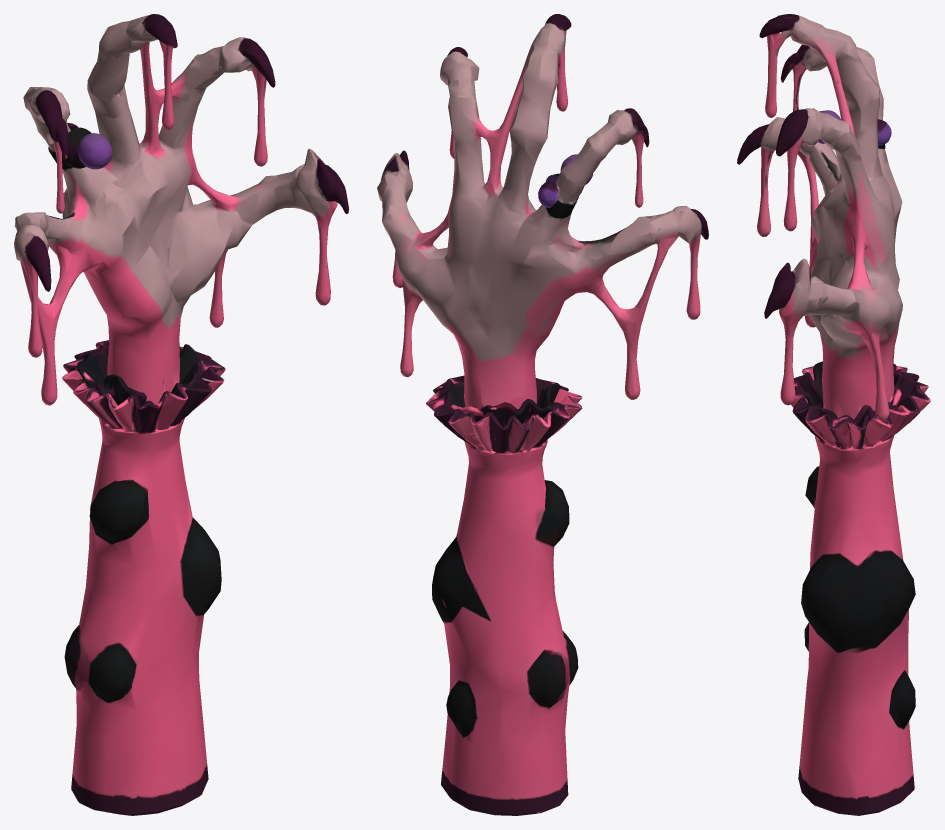
Rendered from reina-brazo.glb.
3 views of the same model, side by side, from view 1: azimuth 30°, elevation 25°; view 2: azimuth 150°, elevation 25°; view 3: azimuth 270°, elevation 25° (orthographic). The views are drawn at different scales.
Visible parts, largest first — view 1: Malla; view 2: Malla; view 3: Malla.
Part boxes in pixels (box(x1,y1,x2,y2)): Malla: box(14, 14, 348, 815); Malla: box(377, 14, 708, 815); Malla: box(737, 14, 930, 815).
Size of the model in its own units: 1.28 by 3 by 0.6884.
1 material, 1 textured.
